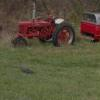Tractor: (7, 14, 77, 55)
